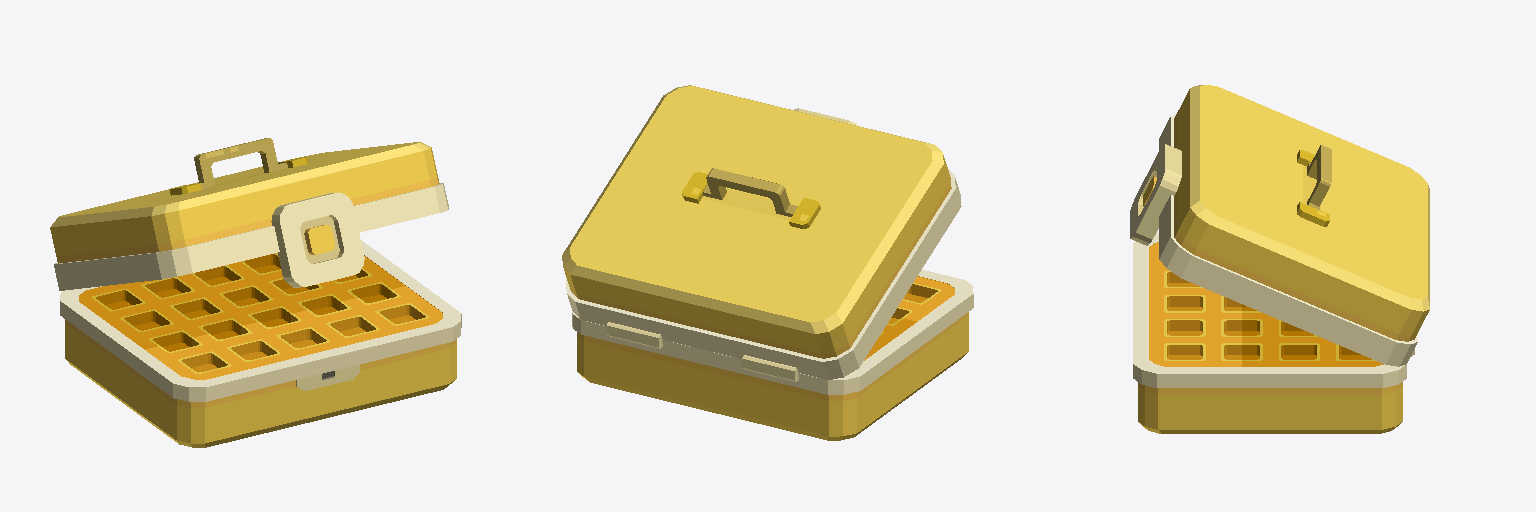
3 views of the same model, side by side, from view 1: azimuth 30°, elevation 25°; view 2: azimuth 150°, elevation 25°; view 3: azimuth 270°, elevation 25° (orthographic).
Parts seen in each view (by area): view 1: beBoxExpansionPoke; view 2: beBoxExpansionPoke; view 3: beBoxExpansionPoke.
Boxes of the visible parts, x1=… form: beBoxExpansionPoke: x1=50, y1=138, x2=461, y2=447; beBoxExpansionPoke: x1=562, y1=85, x2=973, y2=440; beBoxExpansionPoke: x1=1130, y1=85, x2=1429, y2=433.
Size of the model in its own units: 8.73 by 6.5 by 7.89.
1 materials, 1 textured.